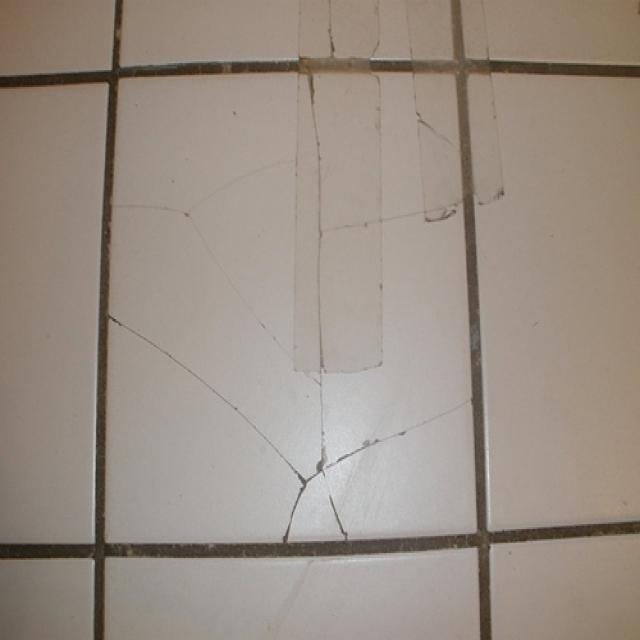Crack: (108, 204, 317, 388), (109, 315, 307, 484), (281, 400, 473, 542), (308, 71, 326, 472), (323, 197, 464, 237)
